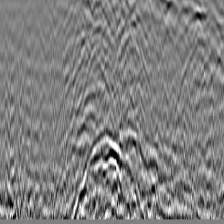cavities: (73, 127, 167, 221)
